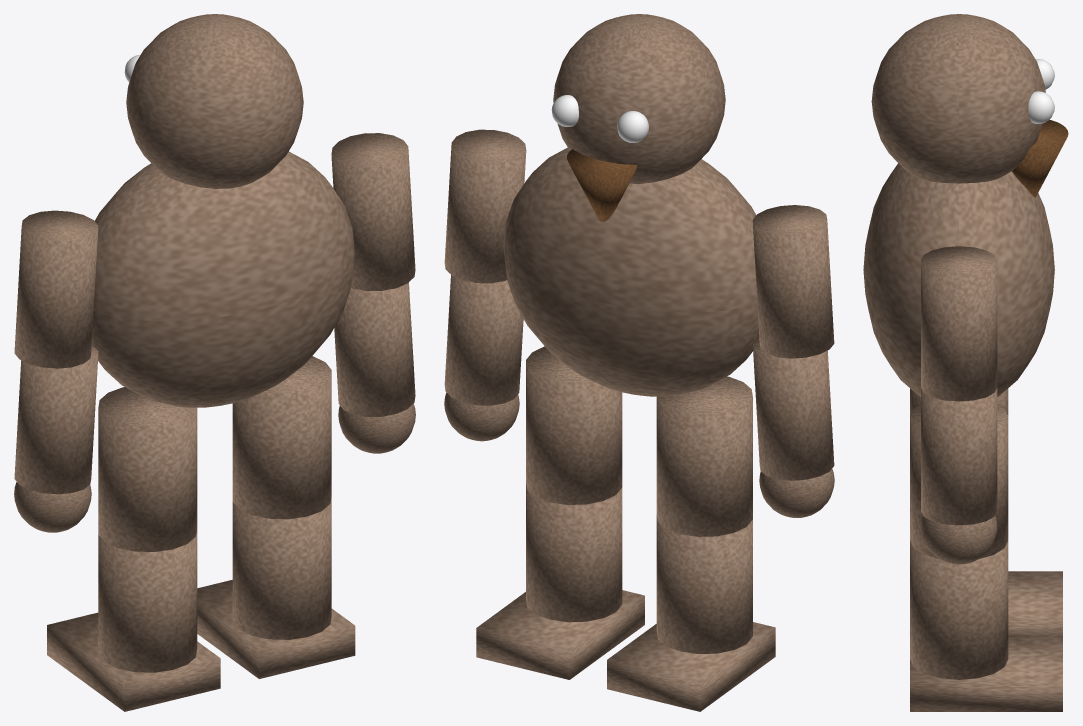
The model's file is mountain-yaoguai.glb.
The picture shows the model from 3 angles, left to right: view 1: azimuth 30°, elevation 25°; view 2: azimuth 150°, elevation 25°; view 3: azimuth 270°, elevation 25°; orthographic projection. The views are drawn at different scales.
Visible parts, largest first — view 1: Torso, Head, ThighL, ThighR, ShinL, ShinR, UpperArmL, UpperArmR, ForearmL, ForearmR, FootL, FootR (+2 smaller); view 2: Torso, Head, ThighL, ThighR, ShinR, ShinL, UpperArmL, UpperArmR, ForearmL, ForearmR, FootR, FootL (+5 smaller); view 3: Torso, Head, ShinR, UpperArmR, ForearmR, FootR, FootL, ThighR, HandR, Beard, Eye.001, ThighL (+1 smaller).
Boxes of the visible parts, x1,y1,x2,y2 form: Torso: (91, 151, 354, 407); Head: (126, 14, 303, 188); ThighL: (98, 387, 197, 551); ThighR: (232, 356, 331, 519); ShinL: (98, 529, 197, 672); ShinR: (232, 497, 331, 639); UpperArmL: (14, 210, 98, 368); UpperArmR: (331, 133, 415, 291); ForearmL: (14, 346, 98, 494); ForearmR: (334, 282, 415, 416); FootL: (47, 612, 220, 711); FootR: (197, 580, 355, 678); Torso: (503, 147, 759, 396); Head: (553, 14, 725, 183); ThighL: (656, 376, 752, 536); ThighR: (526, 346, 622, 504); ShinR: (526, 483, 622, 622); ShinL: (656, 514, 752, 653); UpperArmL: (752, 205, 834, 358); UpperArmR: (444, 129, 526, 283); ForearmL: (752, 337, 834, 480); ForearmR: (444, 275, 523, 405); FootR: (476, 590, 644, 679); FootL: (607, 622, 775, 711); Torso: (863, 163, 1054, 396); Head: (871, 14, 1045, 183); ShinR: (910, 541, 1008, 679); UpperArmR: (921, 246, 997, 401); ForearmR: (921, 388, 997, 525); FootR: (910, 636, 1062, 711); FootL: (1008, 571, 1062, 635); ThighR: (910, 404, 1008, 559); HandR: (921, 515, 997, 564); Beard: (1012, 119, 1068, 197); Eye.001: (1028, 91, 1054, 123); ThighL: (910, 388, 1008, 415).
Bounding box in the file's own units: 0.6367 × 1 × 0.293.
Materials: 4 (3 with a texture image).
